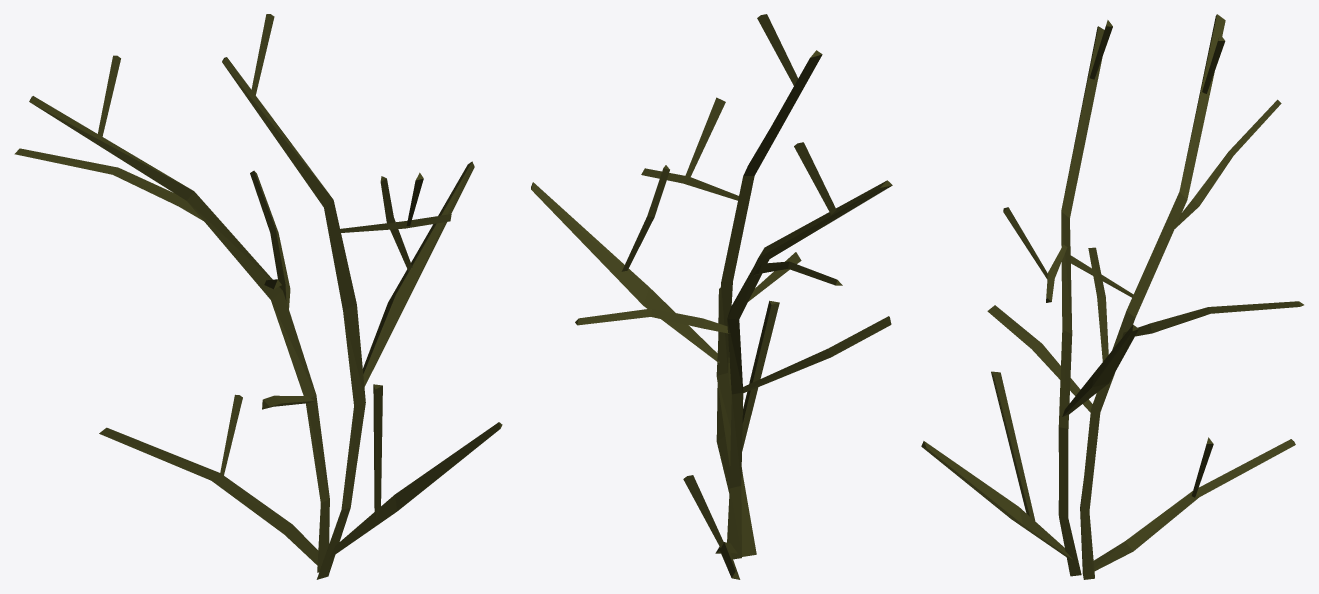
File: Scrub01.fbx
3 renders of one model, left to right at view 1: azimuth 30°, elevation 25°; view 2: azimuth 150°, elevation 25°; view 3: azimuth 270°, elevation 25°, orthographic. The views are drawn at different scales.
Visible parts, largest first — view 1: scrub2; view 2: scrub2; view 3: scrub2.
Part boxes in pixels (x1,y1,x2,y2): scrub2: (14, 14, 502, 579); scrub2: (531, 14, 892, 579); scrub2: (921, 14, 1303, 579).
Size of the model in its own units: 118 by 157 by 102.
